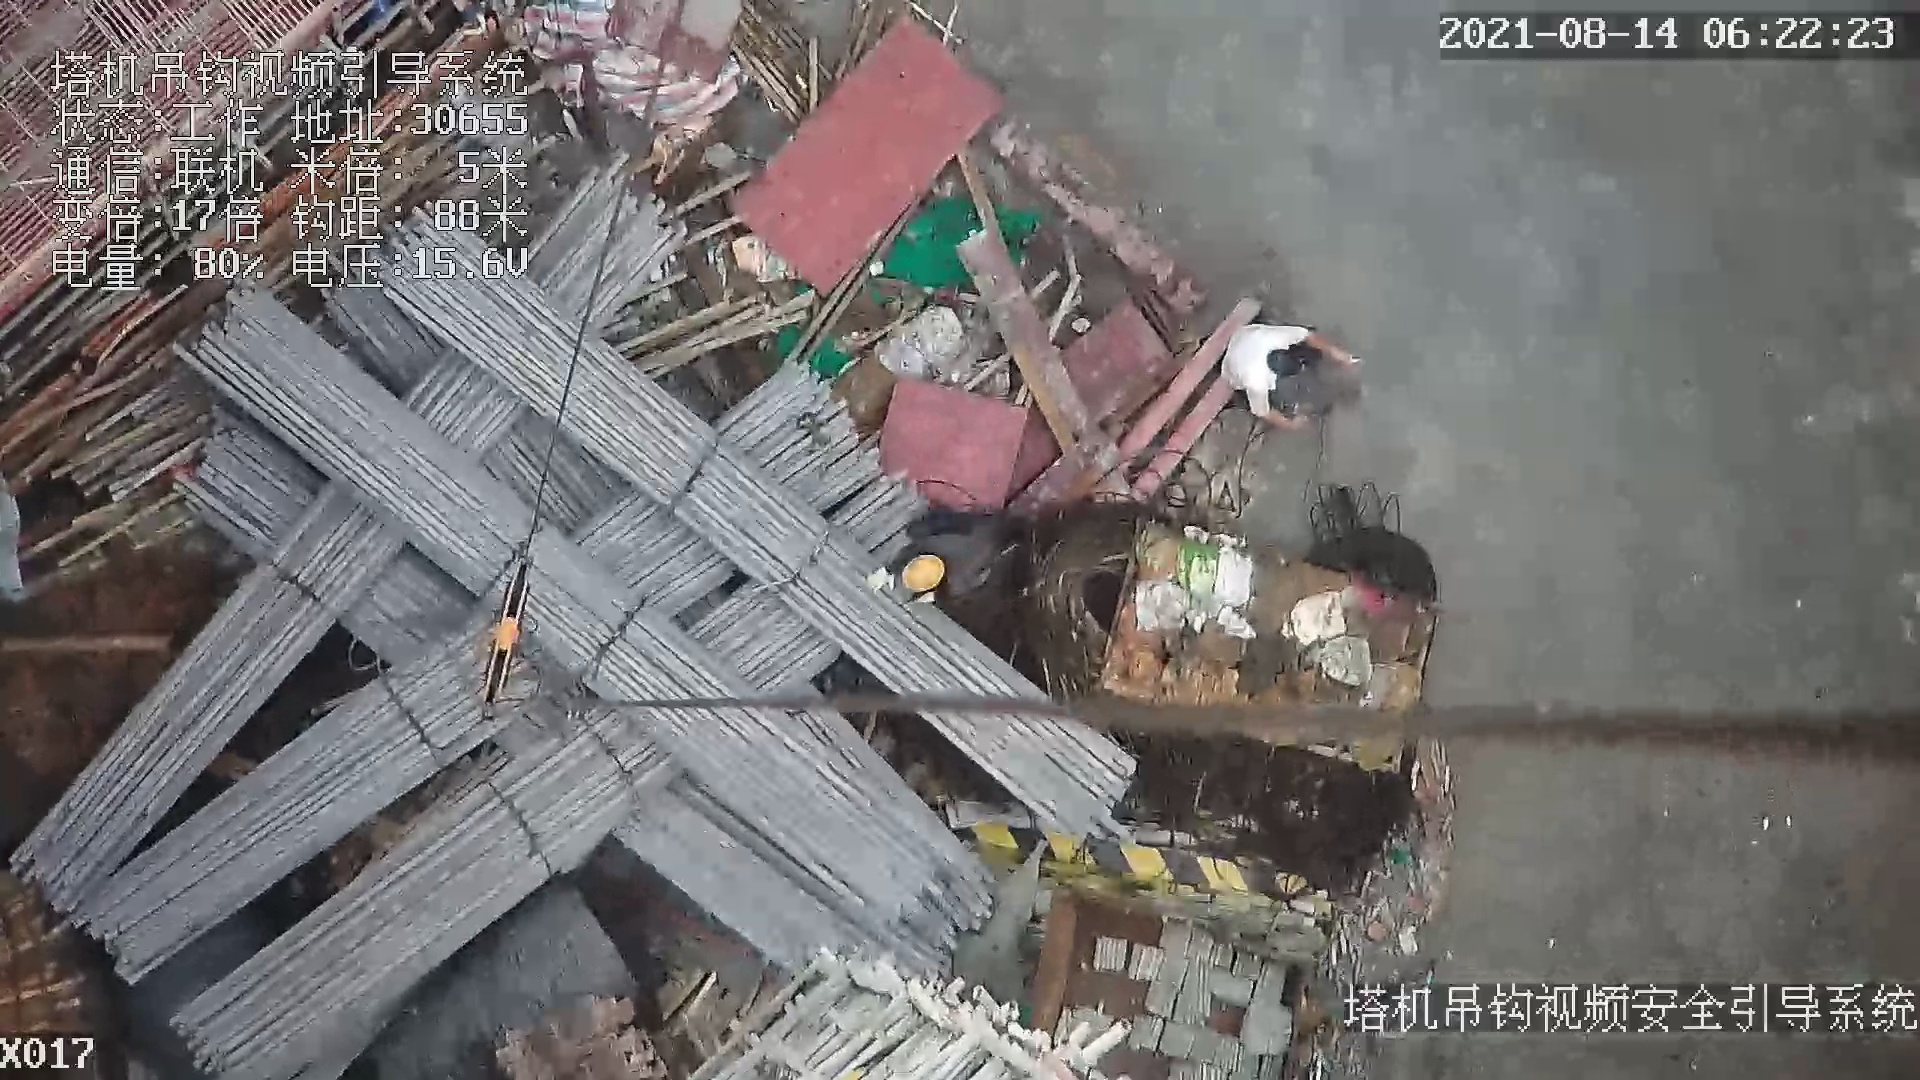helmet: (891, 548, 953, 606)
hook: (474, 569, 518, 723)
person: (1223, 308, 1378, 438), (867, 503, 1014, 609)
